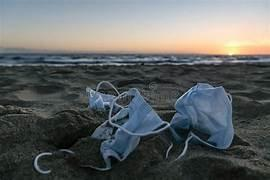Mask: (100, 88, 169, 168), (170, 83, 233, 148), (86, 81, 118, 109)
